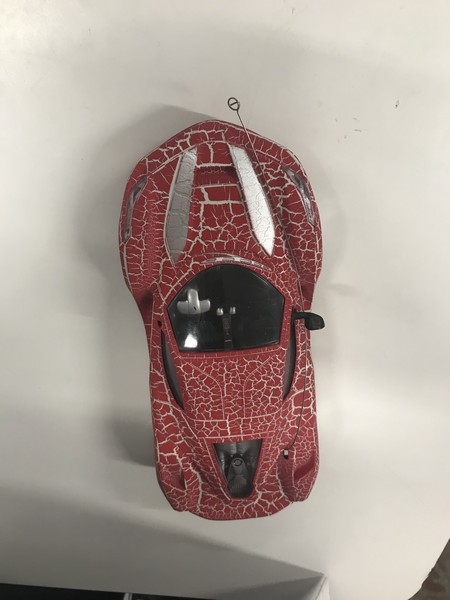RC: (115, 115, 329, 524)
